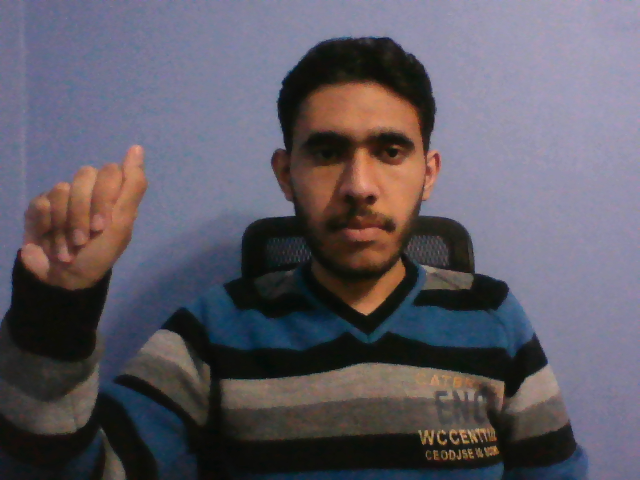A: (19, 144, 150, 290)
